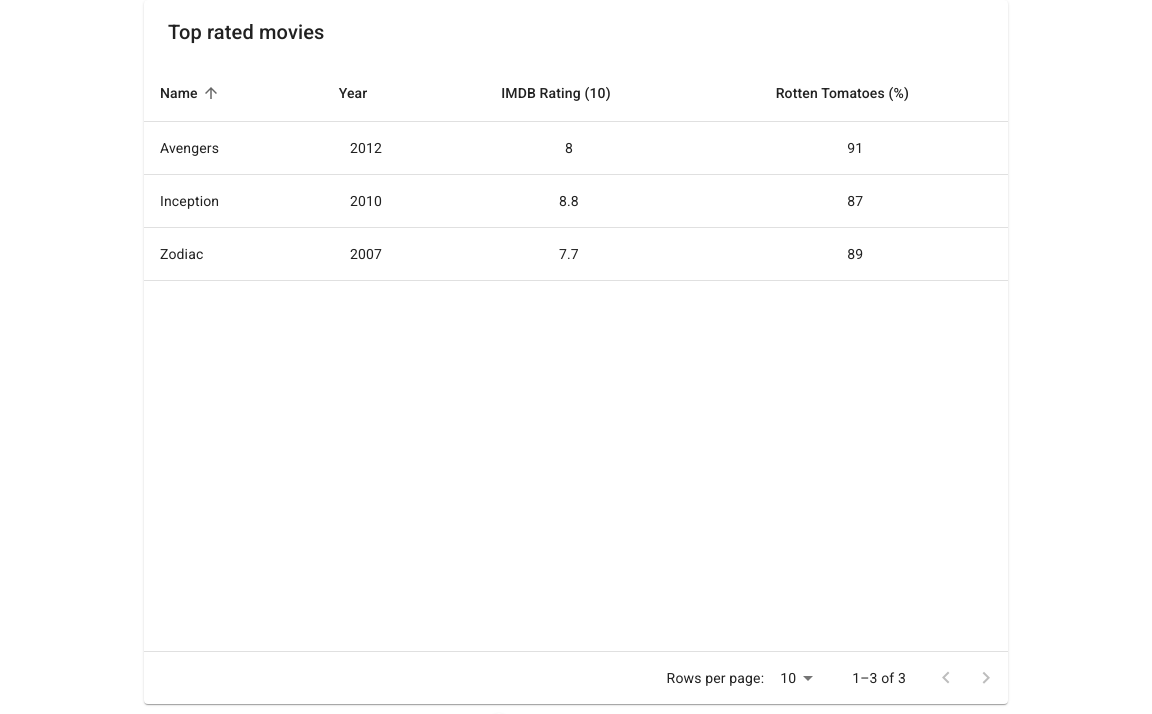
Test: TopRatedMovies sorting behavior › should sort movies by imdb descending when IMDB column is clicked twice
Expected: the text "Inception" is shown, 144,175 -> 297,228
# First click: activates IMDB column ascending (lowest first)
Step 1. Click the button "IMDB Rating (10)" → (556, 93), box 501,85 -> 611,101
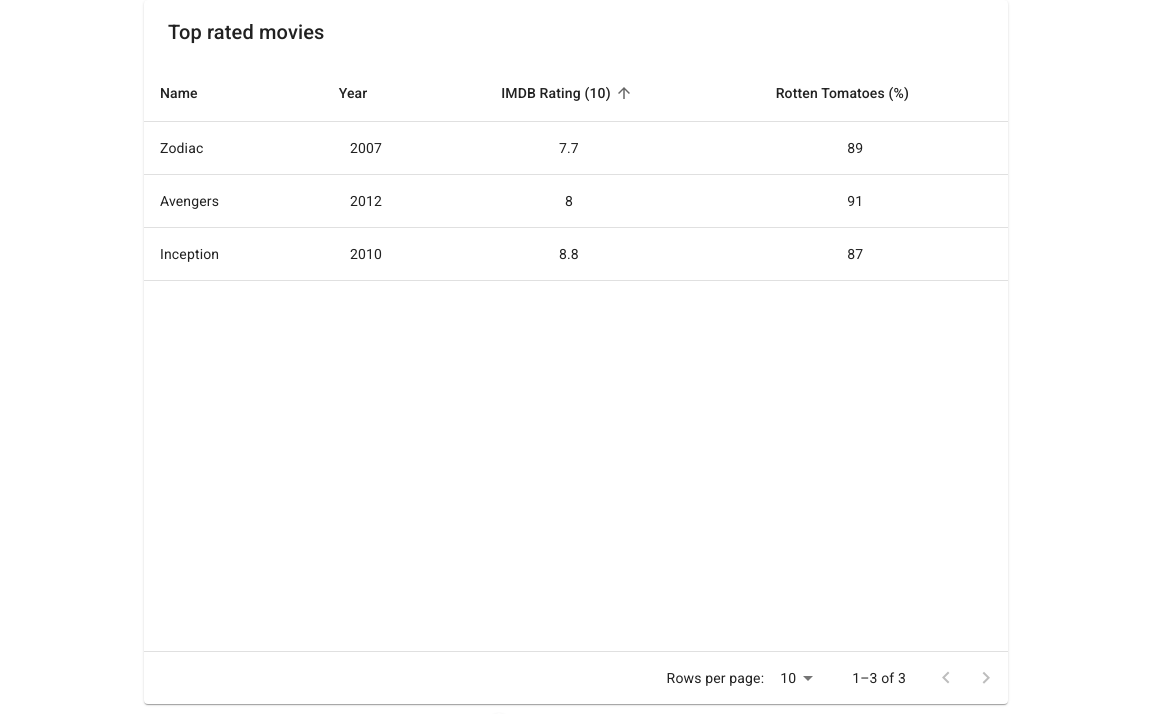
# Second click: flips to descending (highest first)
Step 2. Click the button "IMDB Rating (10)" → (569, 93), box 501,81 -> 637,105
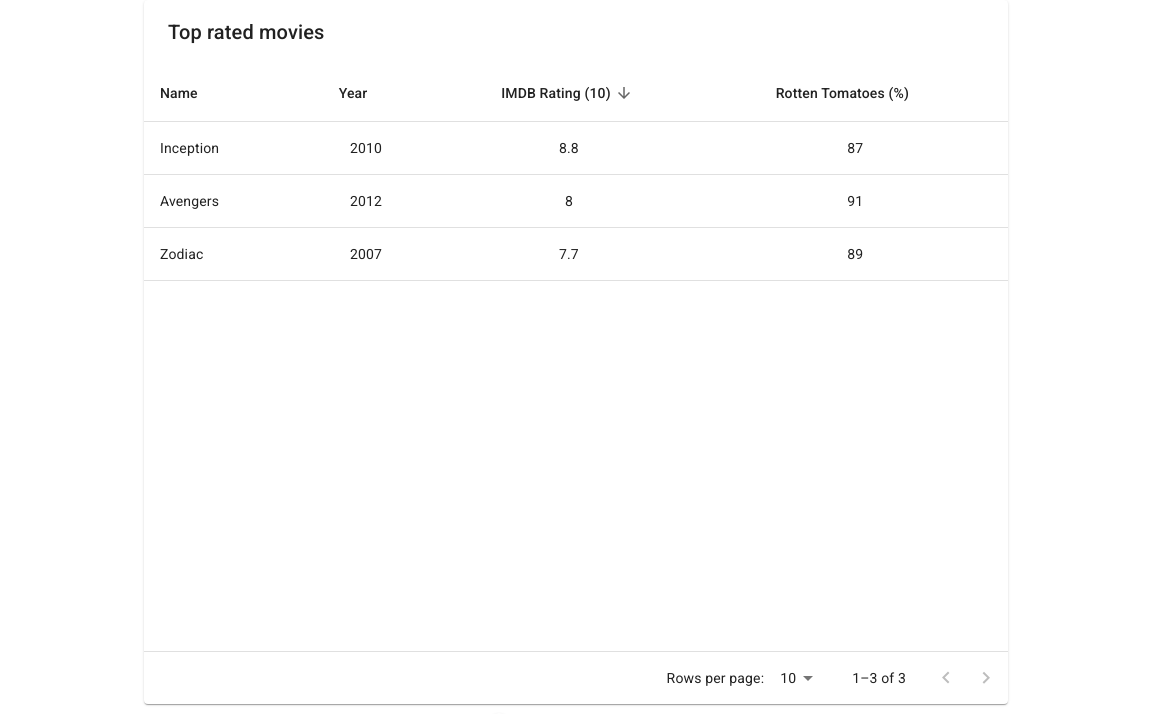
Now the row "Inception 2010 8.8 87" is shown, box 144,122 -> 1008,175
